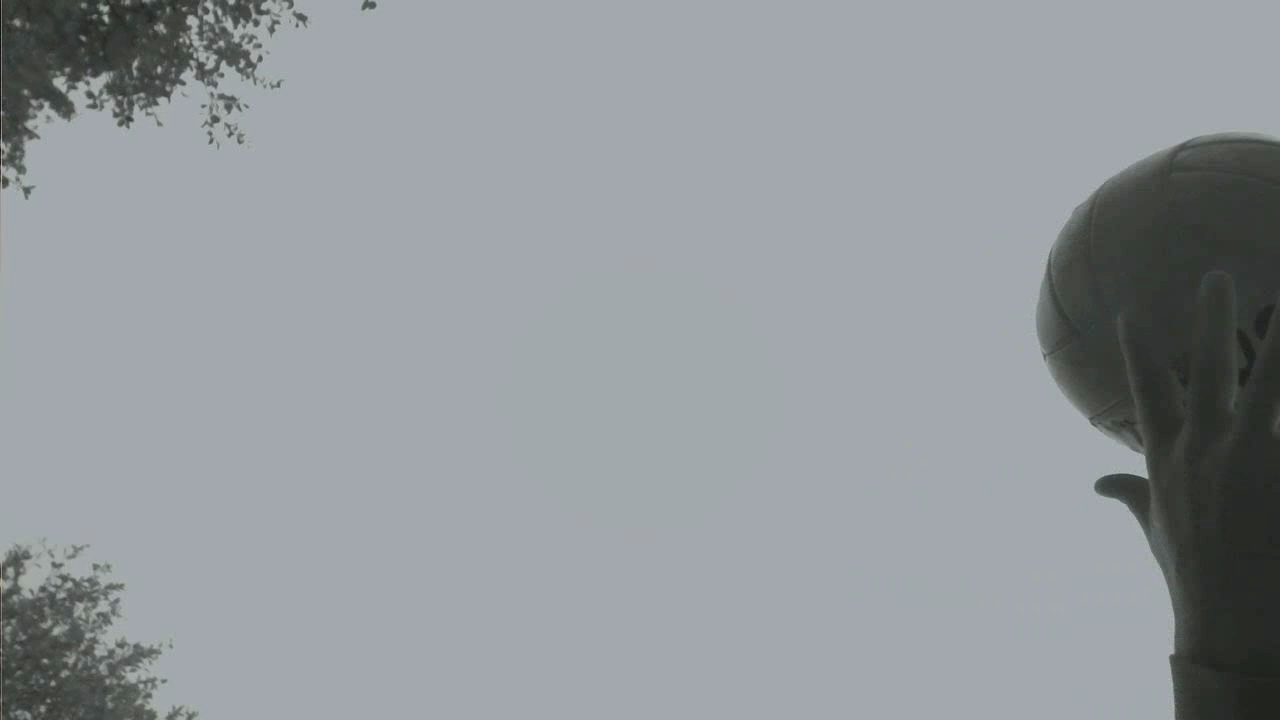Football-Spotter: (1037, 133, 1279, 452)
